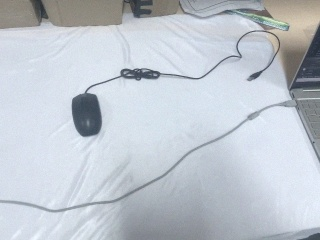box: (35, 1, 126, 29), (1, 1, 44, 30), (125, 1, 182, 19)
mouse: (71, 92, 103, 138)
